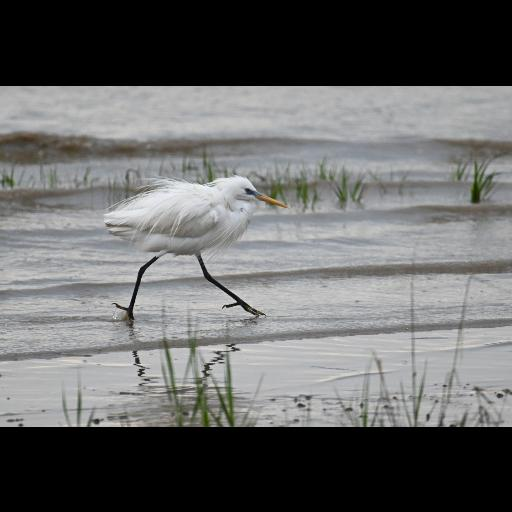chinese_egret: (102, 172, 290, 324)
